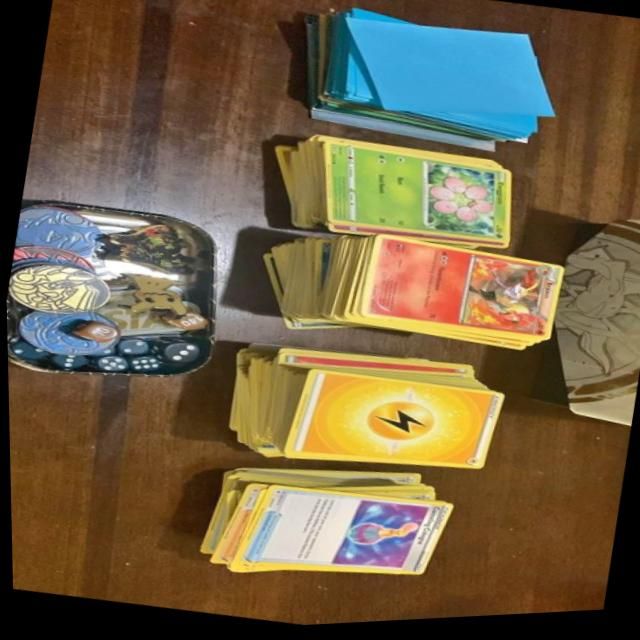card: (279, 369, 502, 476), (352, 238, 562, 348), (222, 486, 453, 582), (322, 142, 512, 249)
